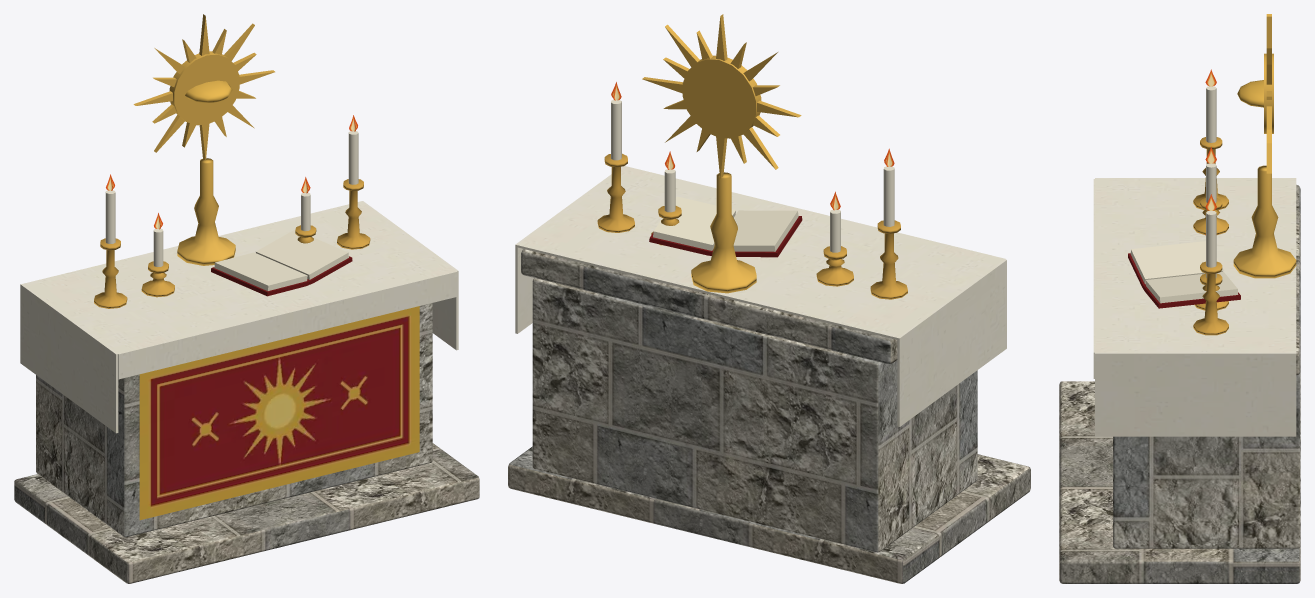
File: prop_altar.glb
3 views of the same model, side by side, from view 1: azimuth 30°, elevation 25°; view 2: azimuth 150°, elevation 25°; view 3: azimuth 270°, elevation 25° (orthographic). The views are drawn at different scales.
Visible parts, largest first — view 1: prop; view 2: prop; view 3: prop.
Boxes of the visible parts, left/top/right/bottom form: prop: left=14, top=14, right=479, bottom=583; prop: left=508, top=14, right=1030, bottom=583; prop: left=1059, top=14, right=1300, bottom=583.
Size of what is drawn, in the model's own units: 0.96 by 1.18 by 0.54.
9 materials, 4 textured.
